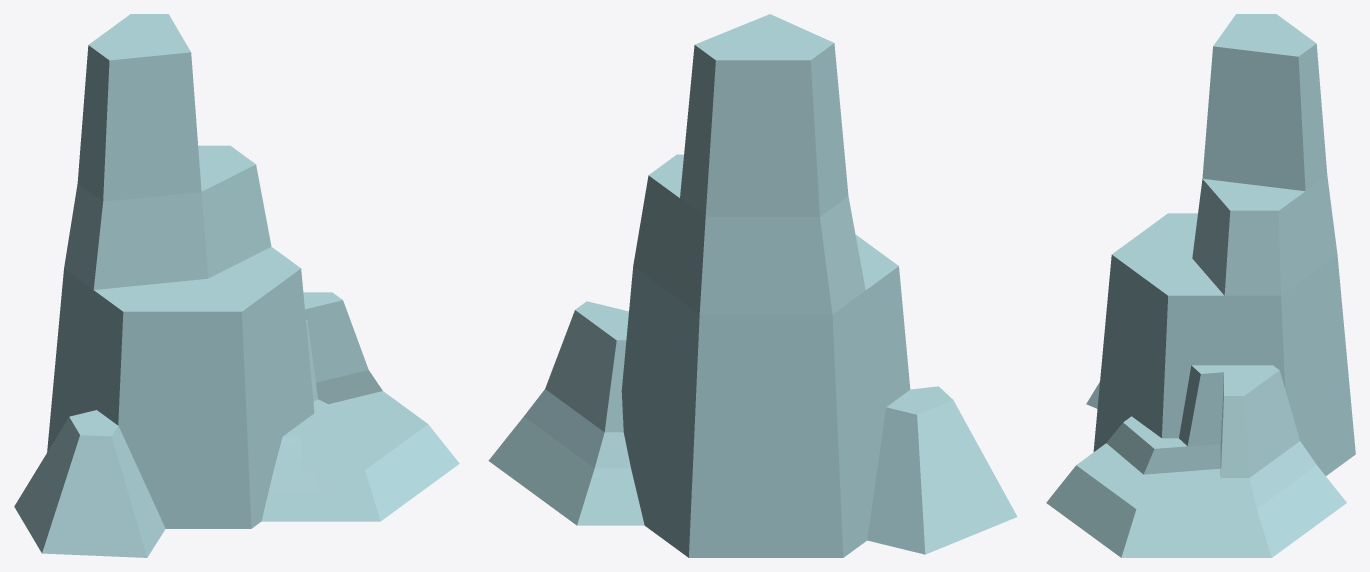
Rendered from stone_tallA.dae.
3 views of the same model, side by side, from view 1: azimuth 30°, elevation 25°; view 2: azimuth 150°, elevation 25°; view 3: azimuth 270°, elevation 25° (orthographic). The views are drawn at different scales.
Parts seen in each view (by area): view 1: stone_tallA; view 2: stone_tallA; view 3: stone_tallA.
Boxes of the visible parts, box(x1,y1,x2,y2) form: stone_tallA: box(14, 14, 459, 557); stone_tallA: box(488, 14, 1017, 557); stone_tallA: box(1046, 14, 1355, 557).
Size of the model in its own units: 0.9831 by 0.9959 by 0.6832.
